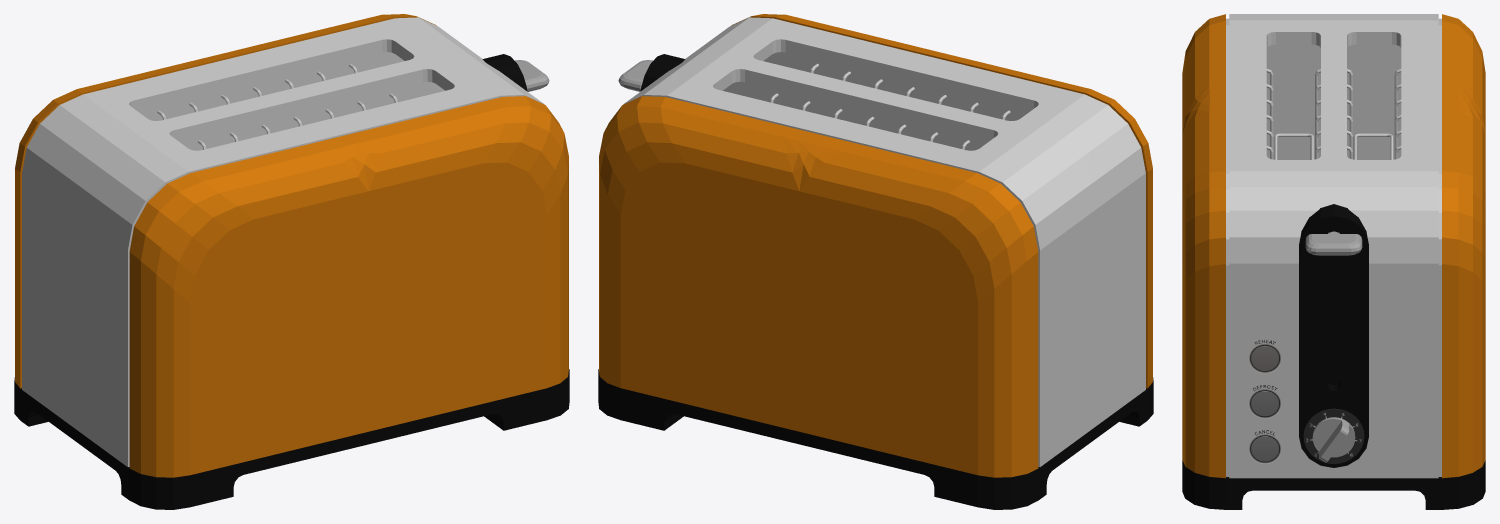
The model's file is toaster.obj.
The picture shows the model from 3 angles, left to right: view 1: azimuth 30°, elevation 25°; view 2: azimuth 150°, elevation 25°; view 3: azimuth 270°, elevation 25°; orthographic projection.
Parts seen in each view (by area): view 1: body_Cube.006, plasticBase_Cube.001, plasticControls_Cylinder; view 2: body_Cube.006, plasticBase_Cube.001, plasticControls_Cylinder; view 3: body_Cube.006, plasticControls_Cylinder, plasticBase_Cube.001, wheelhandle_Cylinder.004, wheel_Cylinder.001, handle_Cube.007.
Boxes of the visible parts, left/top/right/bottom form: body_Cube.006: left=15, top=14, right=568, bottom=477; plasticBase_Cube.001: left=14, top=369, right=569, bottom=509; plasticControls_Cylinder: left=482, top=54, right=527, bottom=90; body_Cube.006: left=599, top=14, right=1152, bottom=477; plasticBase_Cube.001: left=598, top=369, right=1153, bottom=509; plasticControls_Cylinder: left=640, top=54, right=685, bottom=90; body_Cube.006: left=1182, top=14, right=1485, bottom=478; plasticControls_Cylinder: left=1299, top=204, right=1368, bottom=467; plasticBase_Cube.001: left=1182, top=460, right=1485, bottom=509; wheelhandle_Cylinder.004: left=1312, top=417, right=1355, bottom=462; wheel_Cylinder.001: left=1303, top=408, right=1364, bottom=463; handle_Cube.007: left=1305, top=231, right=1362, bottom=255.
Bounding box in the file's own units: 27.04 × 17.41 × 15.47.
Materials: 6 (2 with a texture image).
